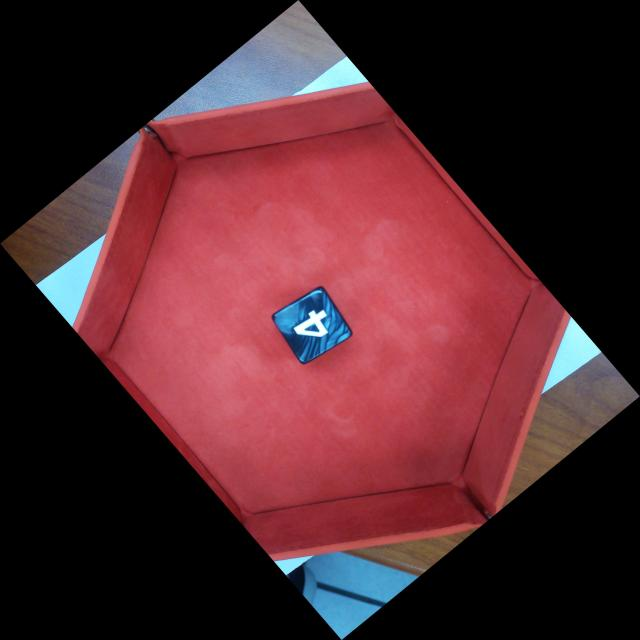dice: (275, 285, 358, 365)
